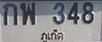txt01: (2, 2, 19, 27)
txt25: (19, 2, 37, 26)
